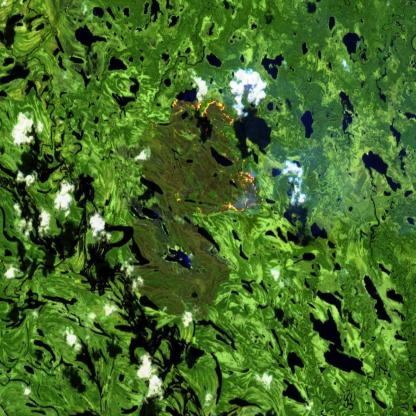fire: (164, 94, 265, 220)
